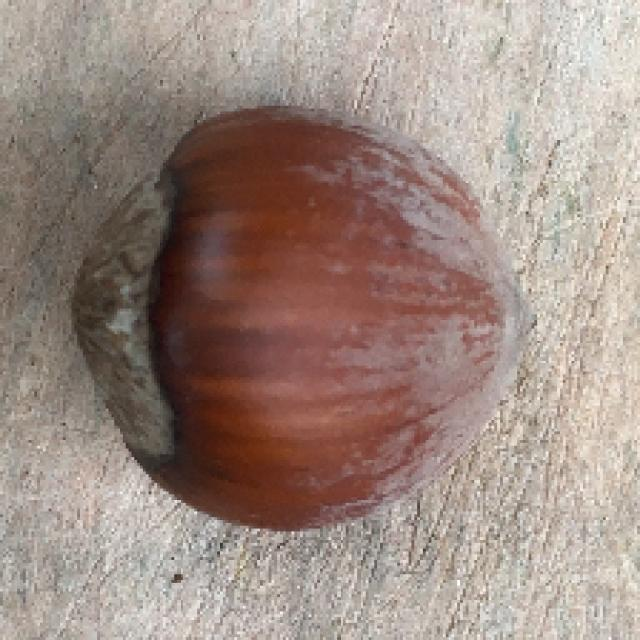qualityHazelnut: (74, 102, 540, 533)
